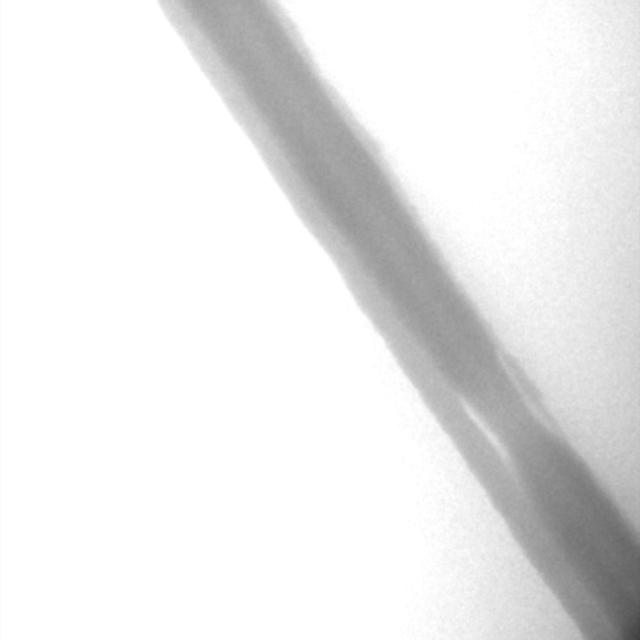unfused: (459, 354, 552, 465)
